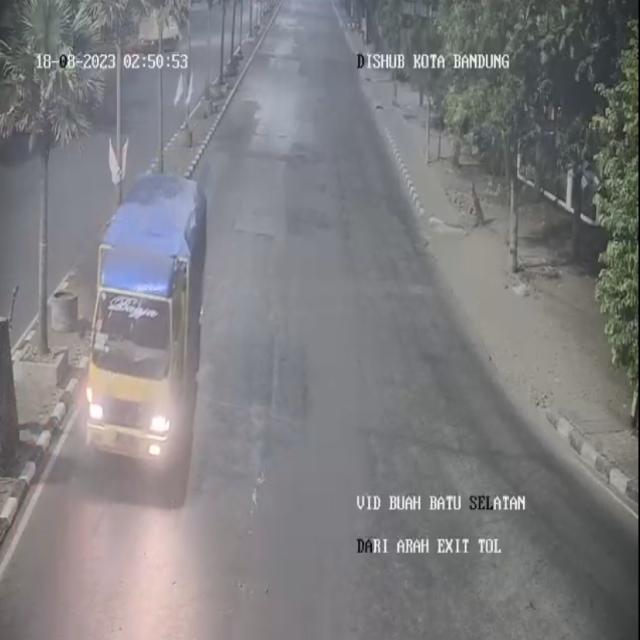truck: (80, 174, 200, 497)
